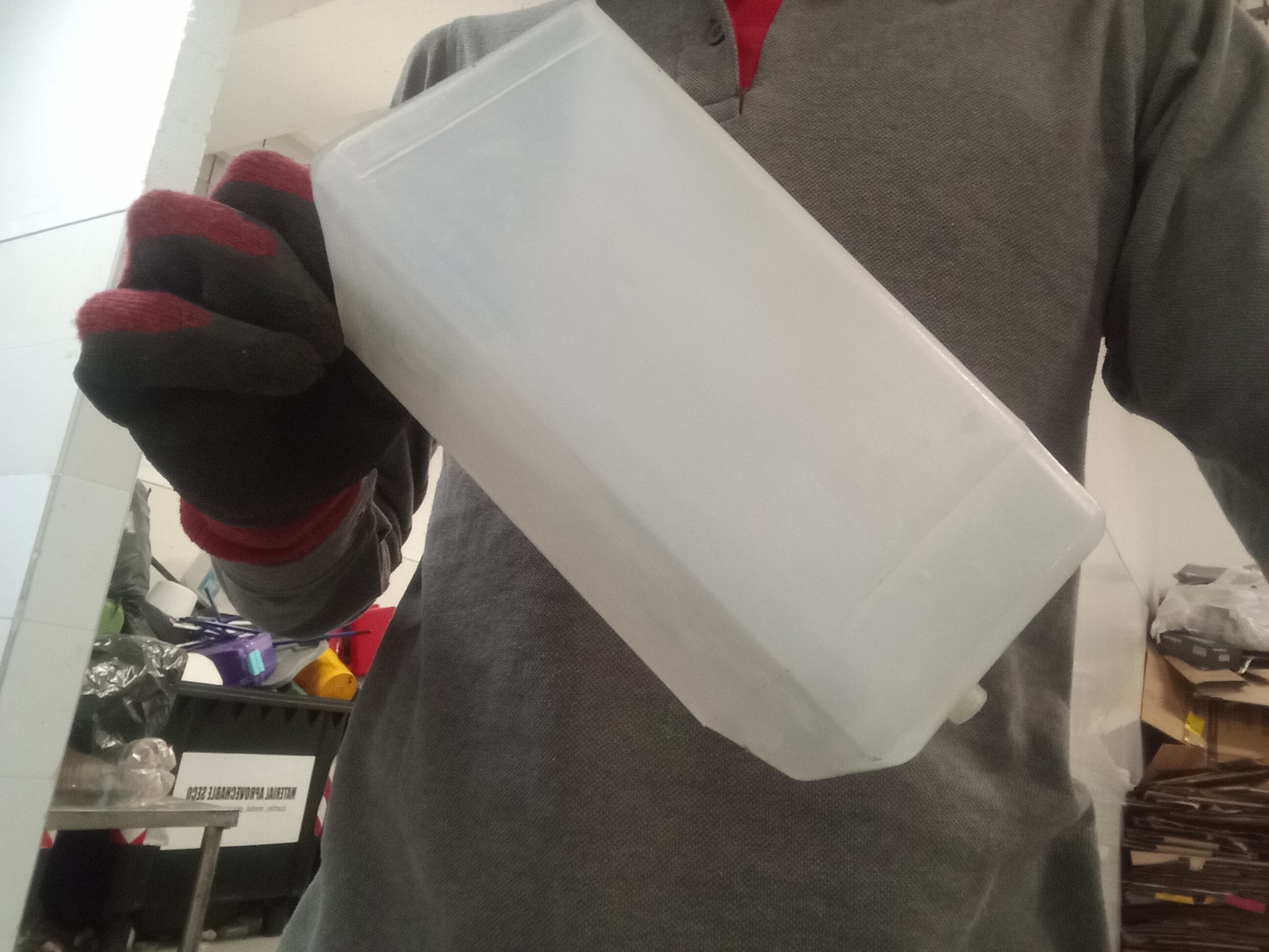Ordinario: (312, 0, 1111, 782)
